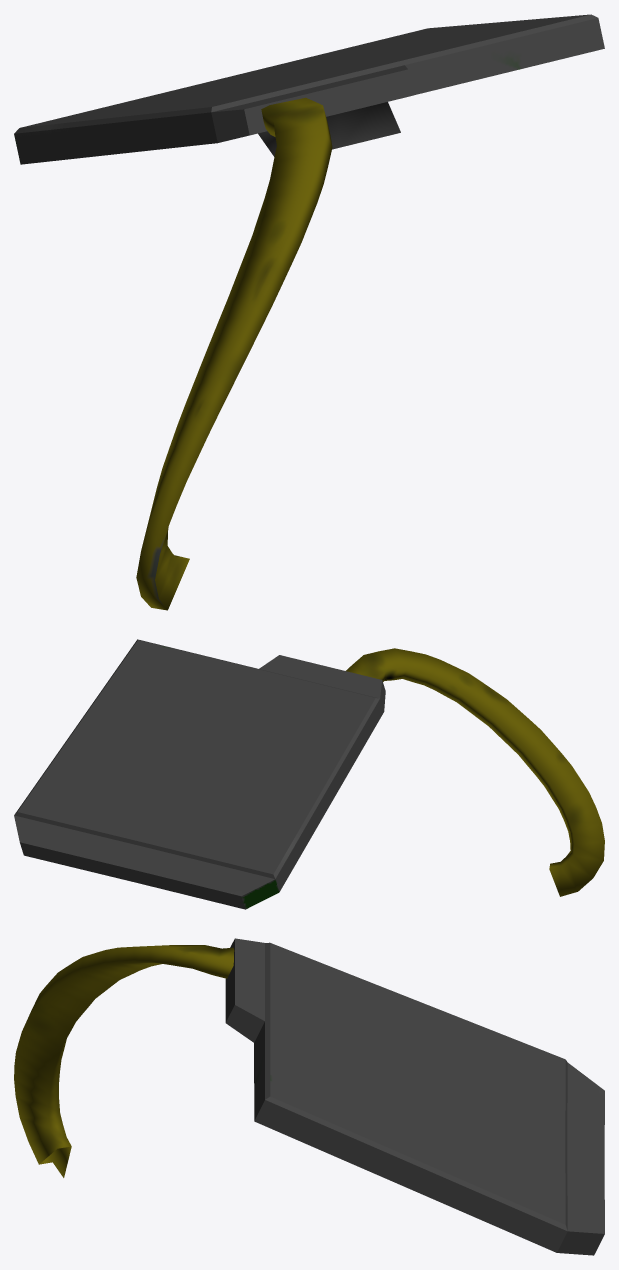
Rendered from Monitorchik.fbx.
The picture shows the model from 3 angles, top to bottom: view 1: azimuth 30°, elevation 25°; view 2: azimuth 150°, elevation 25°; view 3: azimuth 270°, elevation 25°; orthographic projection. The views are drawn at different scales.
Visible parts, largest first — view 1: Pribluda; view 2: Pribluda; view 3: Pribluda.
Part boxes in pixels (box(x1,y1,x2,y2)): Pribluda: box(14, 14, 604, 610); Pribluda: box(14, 639, 604, 909); Pribluda: box(14, 938, 604, 1255).
Bounding box in the file's own units: 1615 × 964 × 1611.
